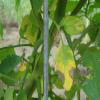Tomato Early blight leaf: (54, 43, 75, 91)
